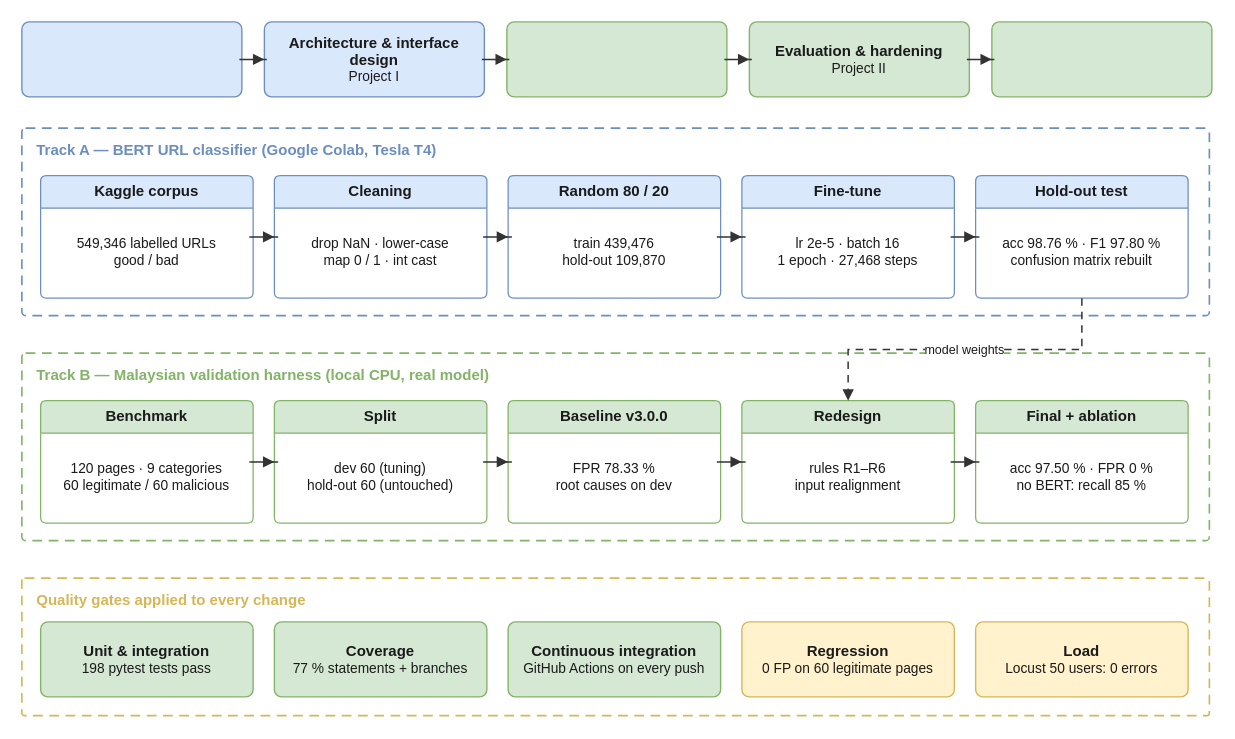
The diagram is 1235 pixels wide and 739 high, and some of its shapes have lost their labels. The centre of each missing label's shape, as x and y in pixels:
"Implementation sprints Project II" goes at point 616,59.
"Release v3.2.0 & report Project II" goes at point 1101,59.
"Requirements & threat modelling Project I" goes at point 131,59.
